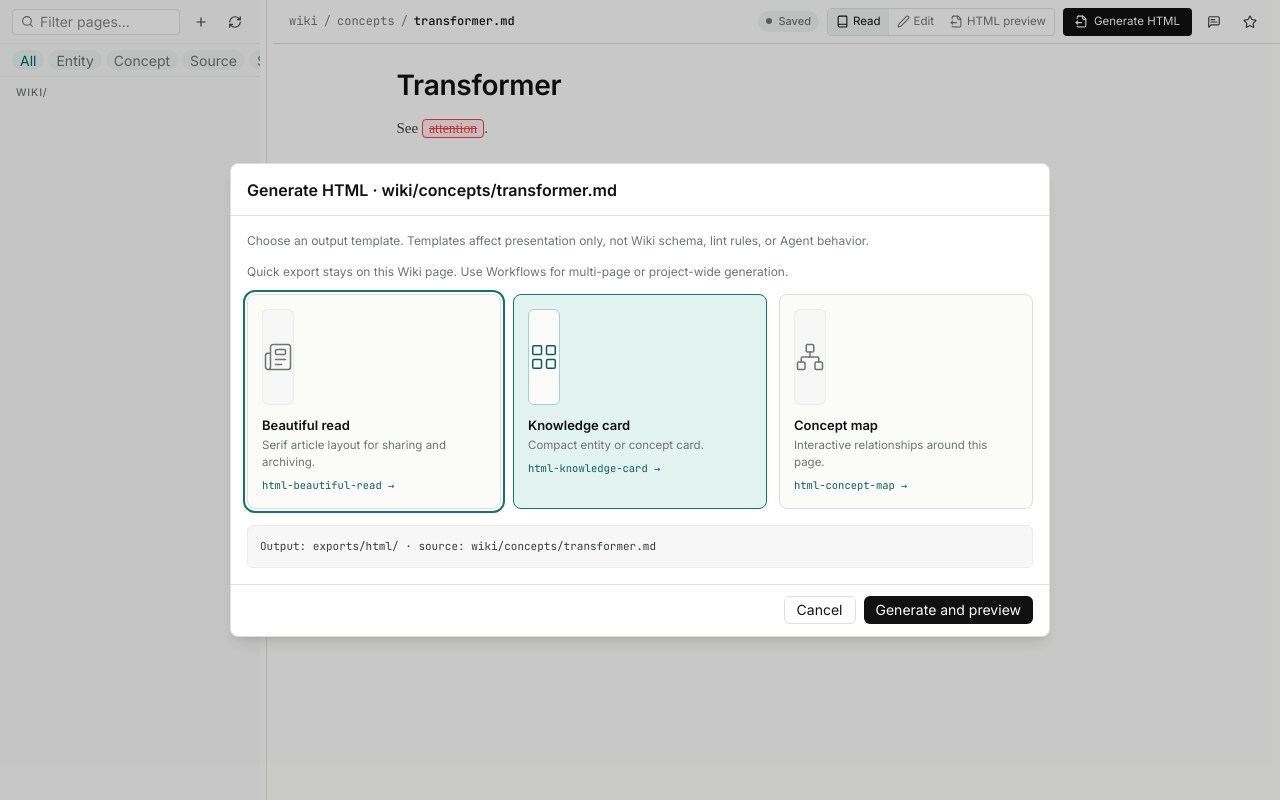
Test: Wiki HTML preview › consumes a Wiki export request and opens the dialog with its selected type
Click the button "Cancel": (820, 610) left=784, top=596, right=856, bottom=624
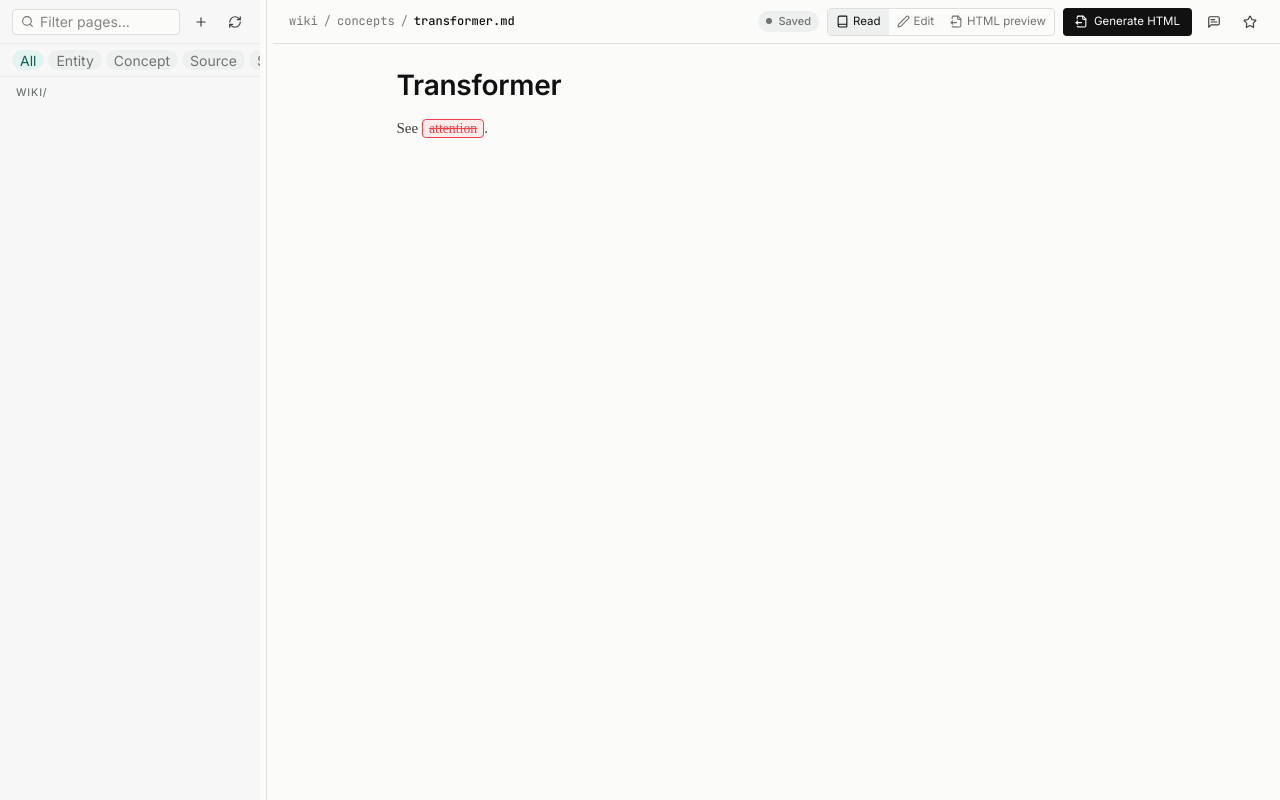
Result: the dialog is gone
